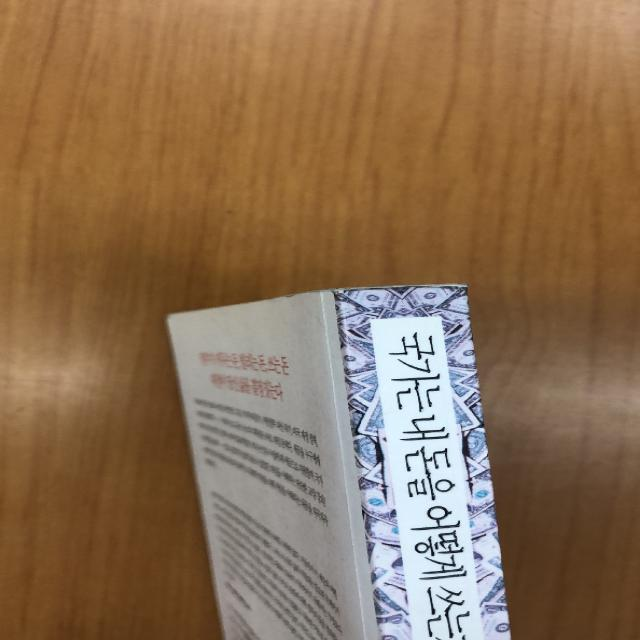Wornout: (321, 278, 475, 303), (275, 287, 321, 303)
